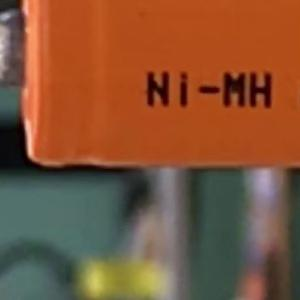keyword: (136, 63, 282, 116)
